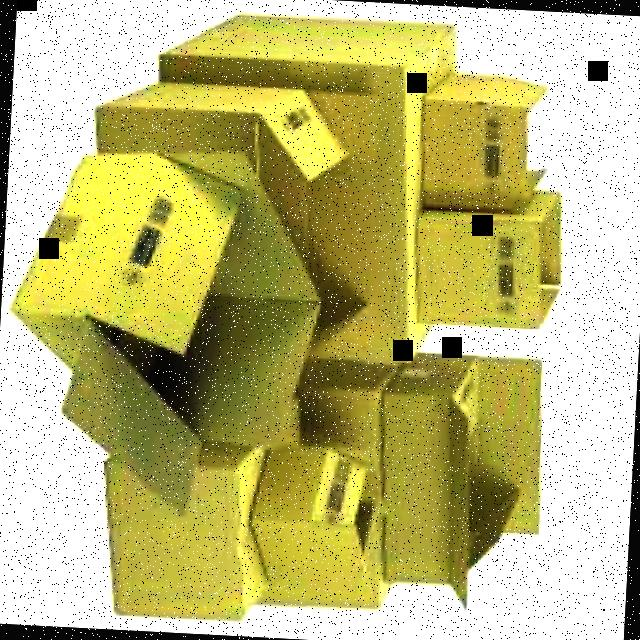cardboard_box: (4, 144, 336, 520), (148, 0, 463, 384), (85, 76, 360, 390), (103, 385, 301, 629), (376, 353, 546, 590), (414, 182, 568, 338), (418, 70, 545, 216), (252, 443, 379, 589)
